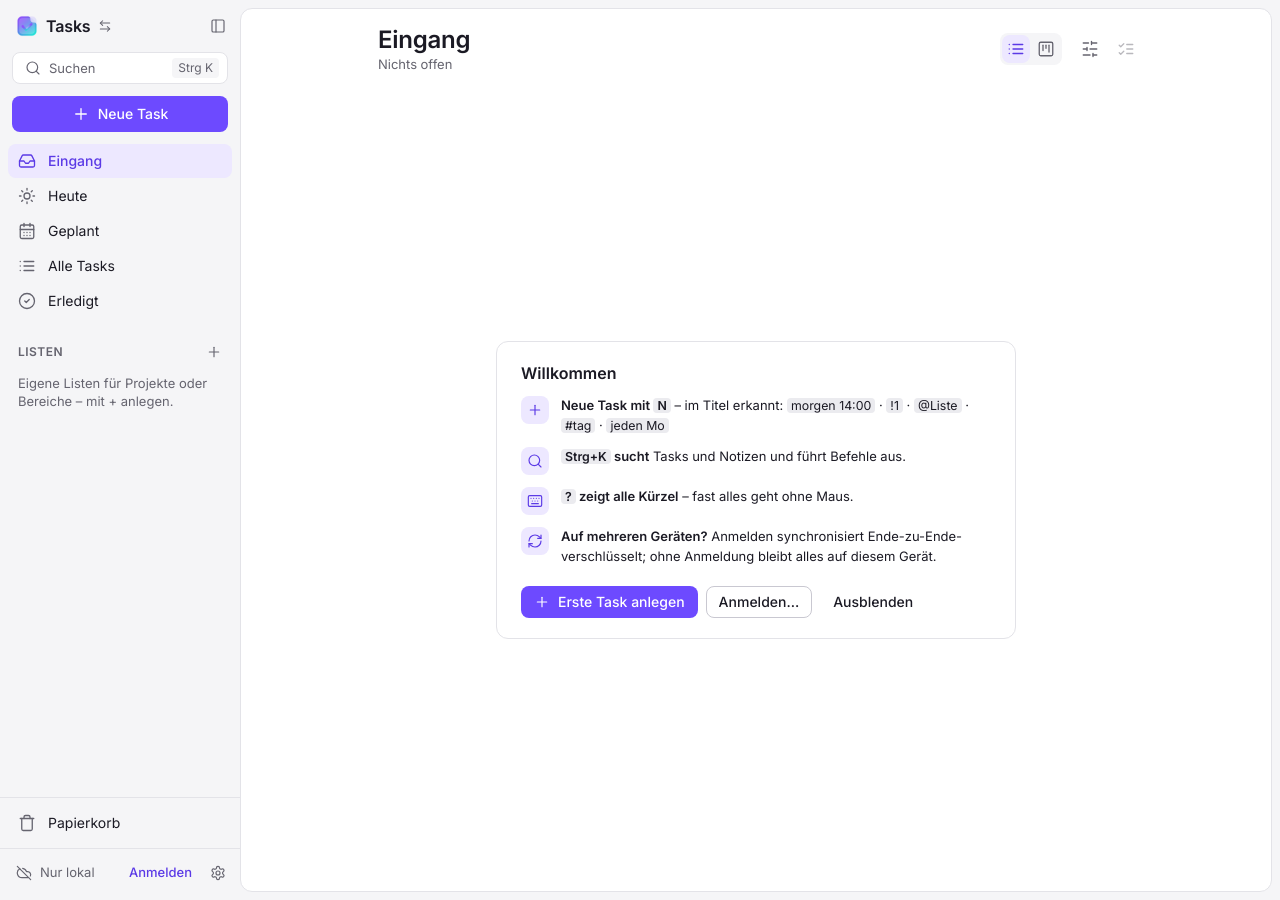
Test case: Login & Sync-Status › explains failures in plain words
The image size is (1280, 900).
Expected: the heading "Eingang" is shown, 378,25 -> 470,55
What coordinates should you click on to do the following:
click the button named "Einstellungen"
I would click on:
 (218, 873)
Its box is 204,859 -> 232,887.
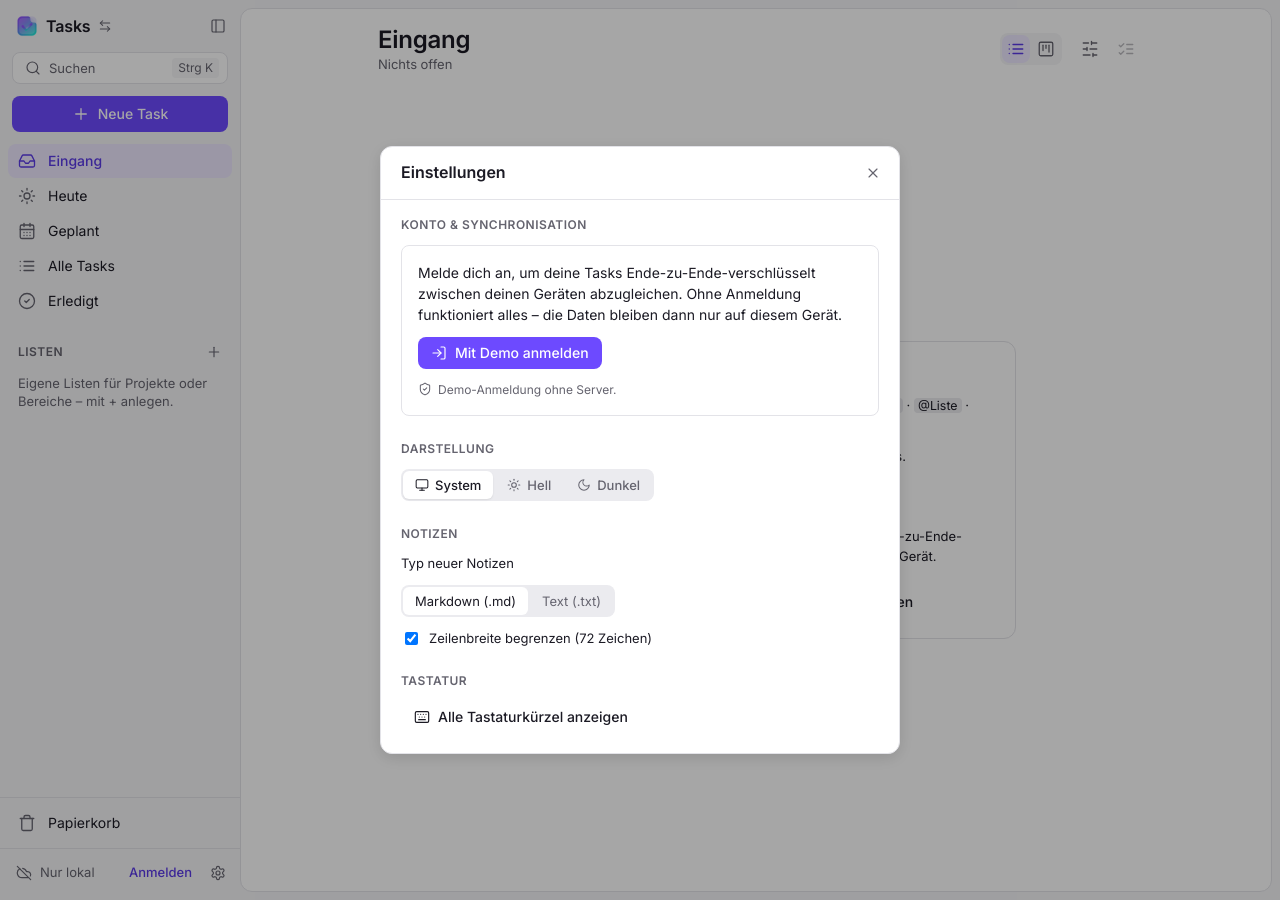
What coordinates should you click on to do the following:
click the button "Mit Demo anmelden"
I would click on:
 (510, 353)
Its box is 418,337 -> 602,369.
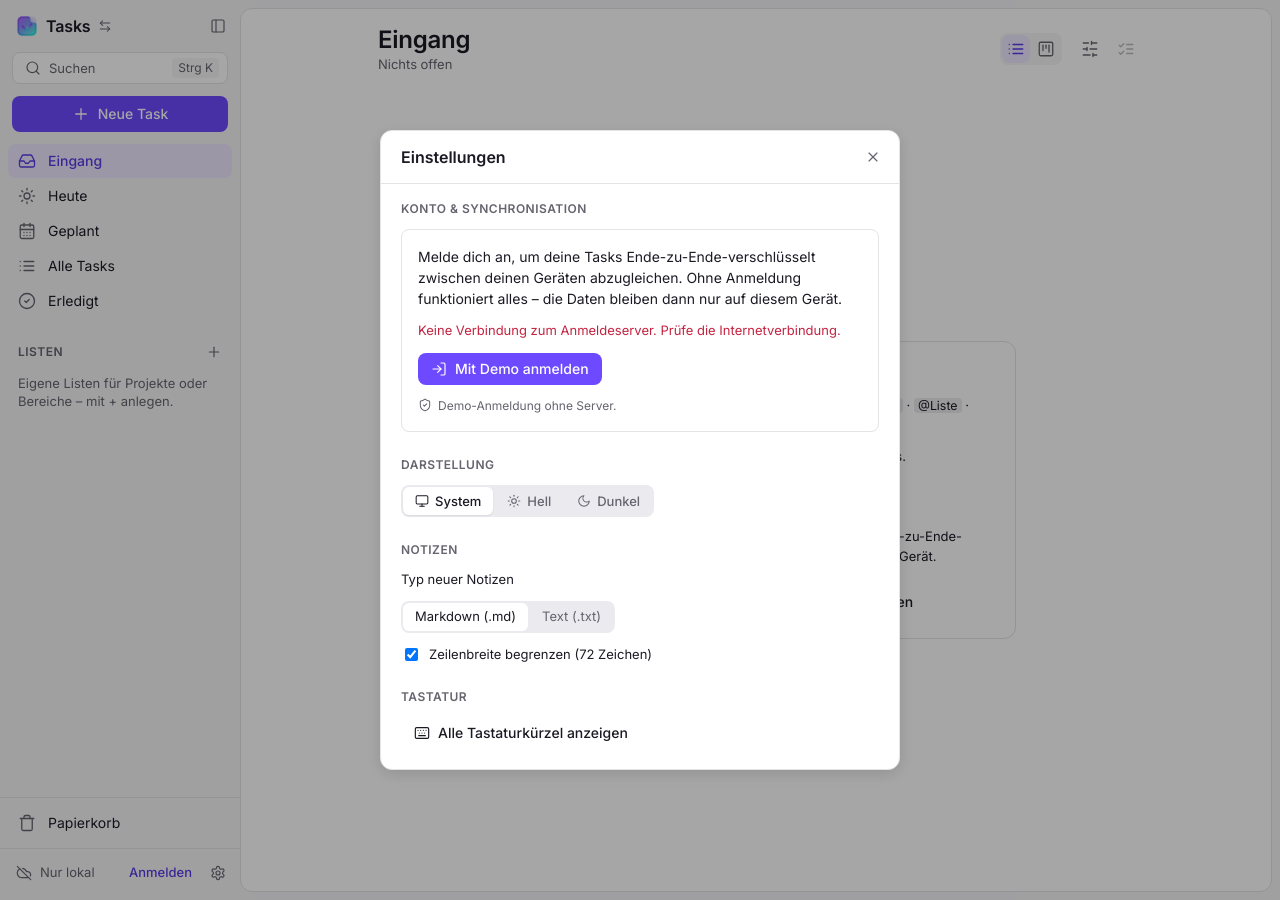
Result: the message shows "Keine Verbindung" at 418,322 -> 841,338
